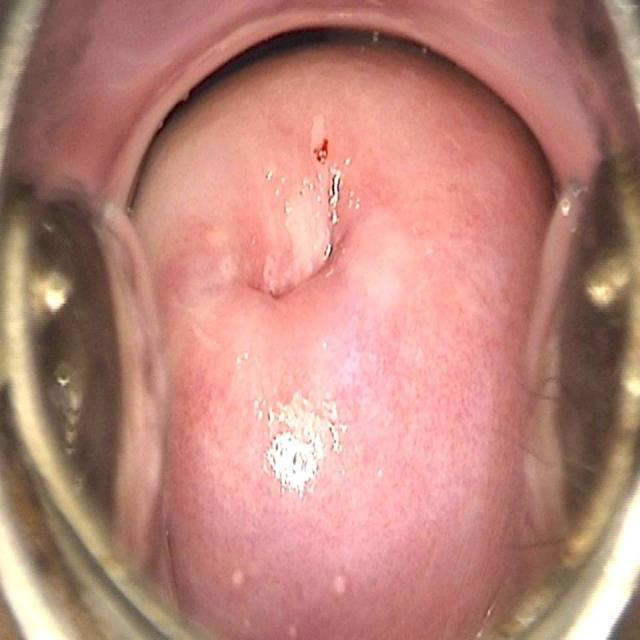cervical_lesion: (173, 98, 423, 588)
